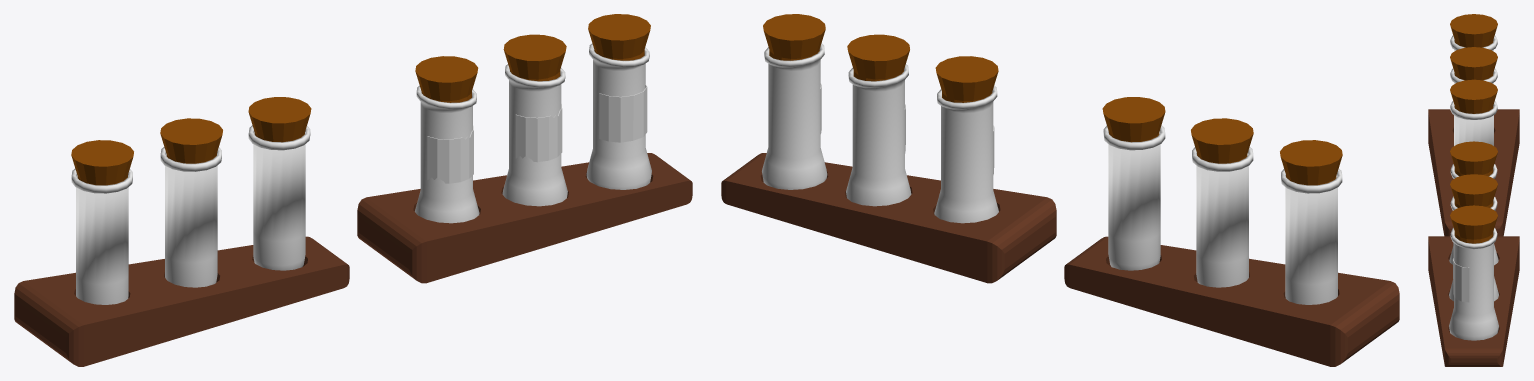
The picture shows the model from 3 angles, left to right: view 1: azimuth 30°, elevation 25°; view 2: azimuth 150°, elevation 25°; view 3: azimuth 270°, elevation 25°; orthographic projection. The views are drawn at different scales.
Parts seen in each view (by area): view 1: Stand_Regular, Stand_Bulb, Bottle_Regular_3, Bottle_Regular_2, Bottle_Regular_1, Bottle_Bulb_3, Bottle_Bulb_2, Bottle_Bulb_1, Cork_Bulb_2, Cork_Bulb_3, Cork_Bulb_1, Cork_Regular_2 (+5 smaller); view 2: Stand_Regular, Stand_Bulb, Bottle_Bulb_3, Bottle_Bulb_2, Bottle_Regular_3, Bottle_Regular_2, Bottle_Bulb_1, Bottle_Regular_1, Cork_Bulb_2, Cork_Bulb_3, Cork_Bulb_1, Cork_Regular_2 (+2 smaller); view 3: Stand_Bulb, Stand_Regular, Bottle_Bulb_3, Cork_Bulb_3, Cork_Bulb_1, Cork_Regular_3, Cork_Regular_1, Bottle_Regular_3, Cork_Bulb_2, Cork_Regular_2, Warning_Bulb_3, Bottle_Bulb_2 (+3 smaller).
Boxes of the visible parts, x1,y1,x2,y2 form: Stand_Regular: (14,236,349,366); Stand_Bulb: (357,153,692,283); Bottle_Regular_3: (248,125,310,270); Bottle_Regular_2: (160,147,221,287); Bottle_Regular_1: (71,168,132,304); Bottle_Bulb_3: (586,43,651,189); Bottle_Bulb_2: (502,64,567,206); Bottle_Bulb_1: (415,86,479,223); Cork_Bulb_2: (503,34,566,81); Cork_Bulb_3: (588,14,650,60); Cork_Bulb_1: (415,56,478,102); Cork_Regular_2: (160,118,222,163); Stand_Regular: (1064,236,1399,366); Stand_Bulb: (721,153,1056,283); Bottle_Bulb_3: (762,43,827,189); Bottle_Bulb_2: (846,64,911,206); Bottle_Regular_3: (1103,125,1165,270); Bottle_Regular_2: (1192,147,1253,287); Bottle_Bulb_1: (934,85,998,223); Bottle_Regular_1: (1281,168,1342,304); Cork_Bulb_2: (847,34,909,81); Cork_Bulb_3: (763,14,825,60); Cork_Bulb_1: (935,56,998,102); Cork_Regular_2: (1191,118,1253,163); Stand_Bulb: (1428,236,1519,366); Stand_Regular: (1428,109,1519,236); Bottle_Bulb_3: (1449,228,1498,340); Cork_Bulb_3: (1450,205,1497,243); Cork_Bulb_1: (1450,141,1497,176); Cork_Regular_3: (1450,79,1497,113); Cork_Regular_1: (1450,14,1497,47); Bottle_Regular_3: (1450,101,1497,145); Cork_Bulb_2: (1450,174,1497,207); Cork_Regular_2: (1450,47,1497,80); Warning_Bulb_3: (1452,258,1469,302); Bottle_Bulb_2: (1449,197,1498,301).
Bounding box in the file's own units: 955 × 258 × 157.
